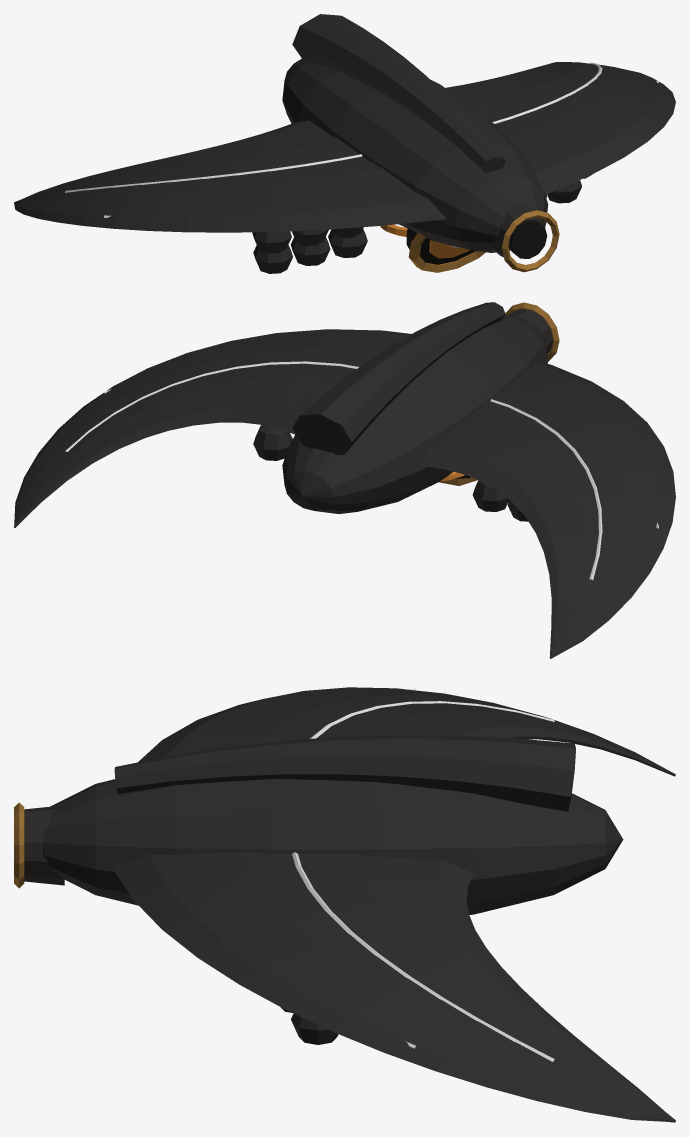
The model's file is bomber.glb.
3 renders of one model, top to bottom at view 1: azimuth 30°, elevation 25°; view 2: azimuth 150°, elevation 25°; view 3: azimuth 270°, elevation 25°, orthographic. The views are drawn at different scales.
Parts seen in each view (by area): view 1: body; view 2: body; view 3: body.
Part boxes in pixels (x1,y1,x2,y2): body: (14, 14, 675, 273); body: (14, 302, 675, 658); body: (14, 687, 675, 1122).
Size of the model in its own units: 13.95 by 3.8 by 10.19.
